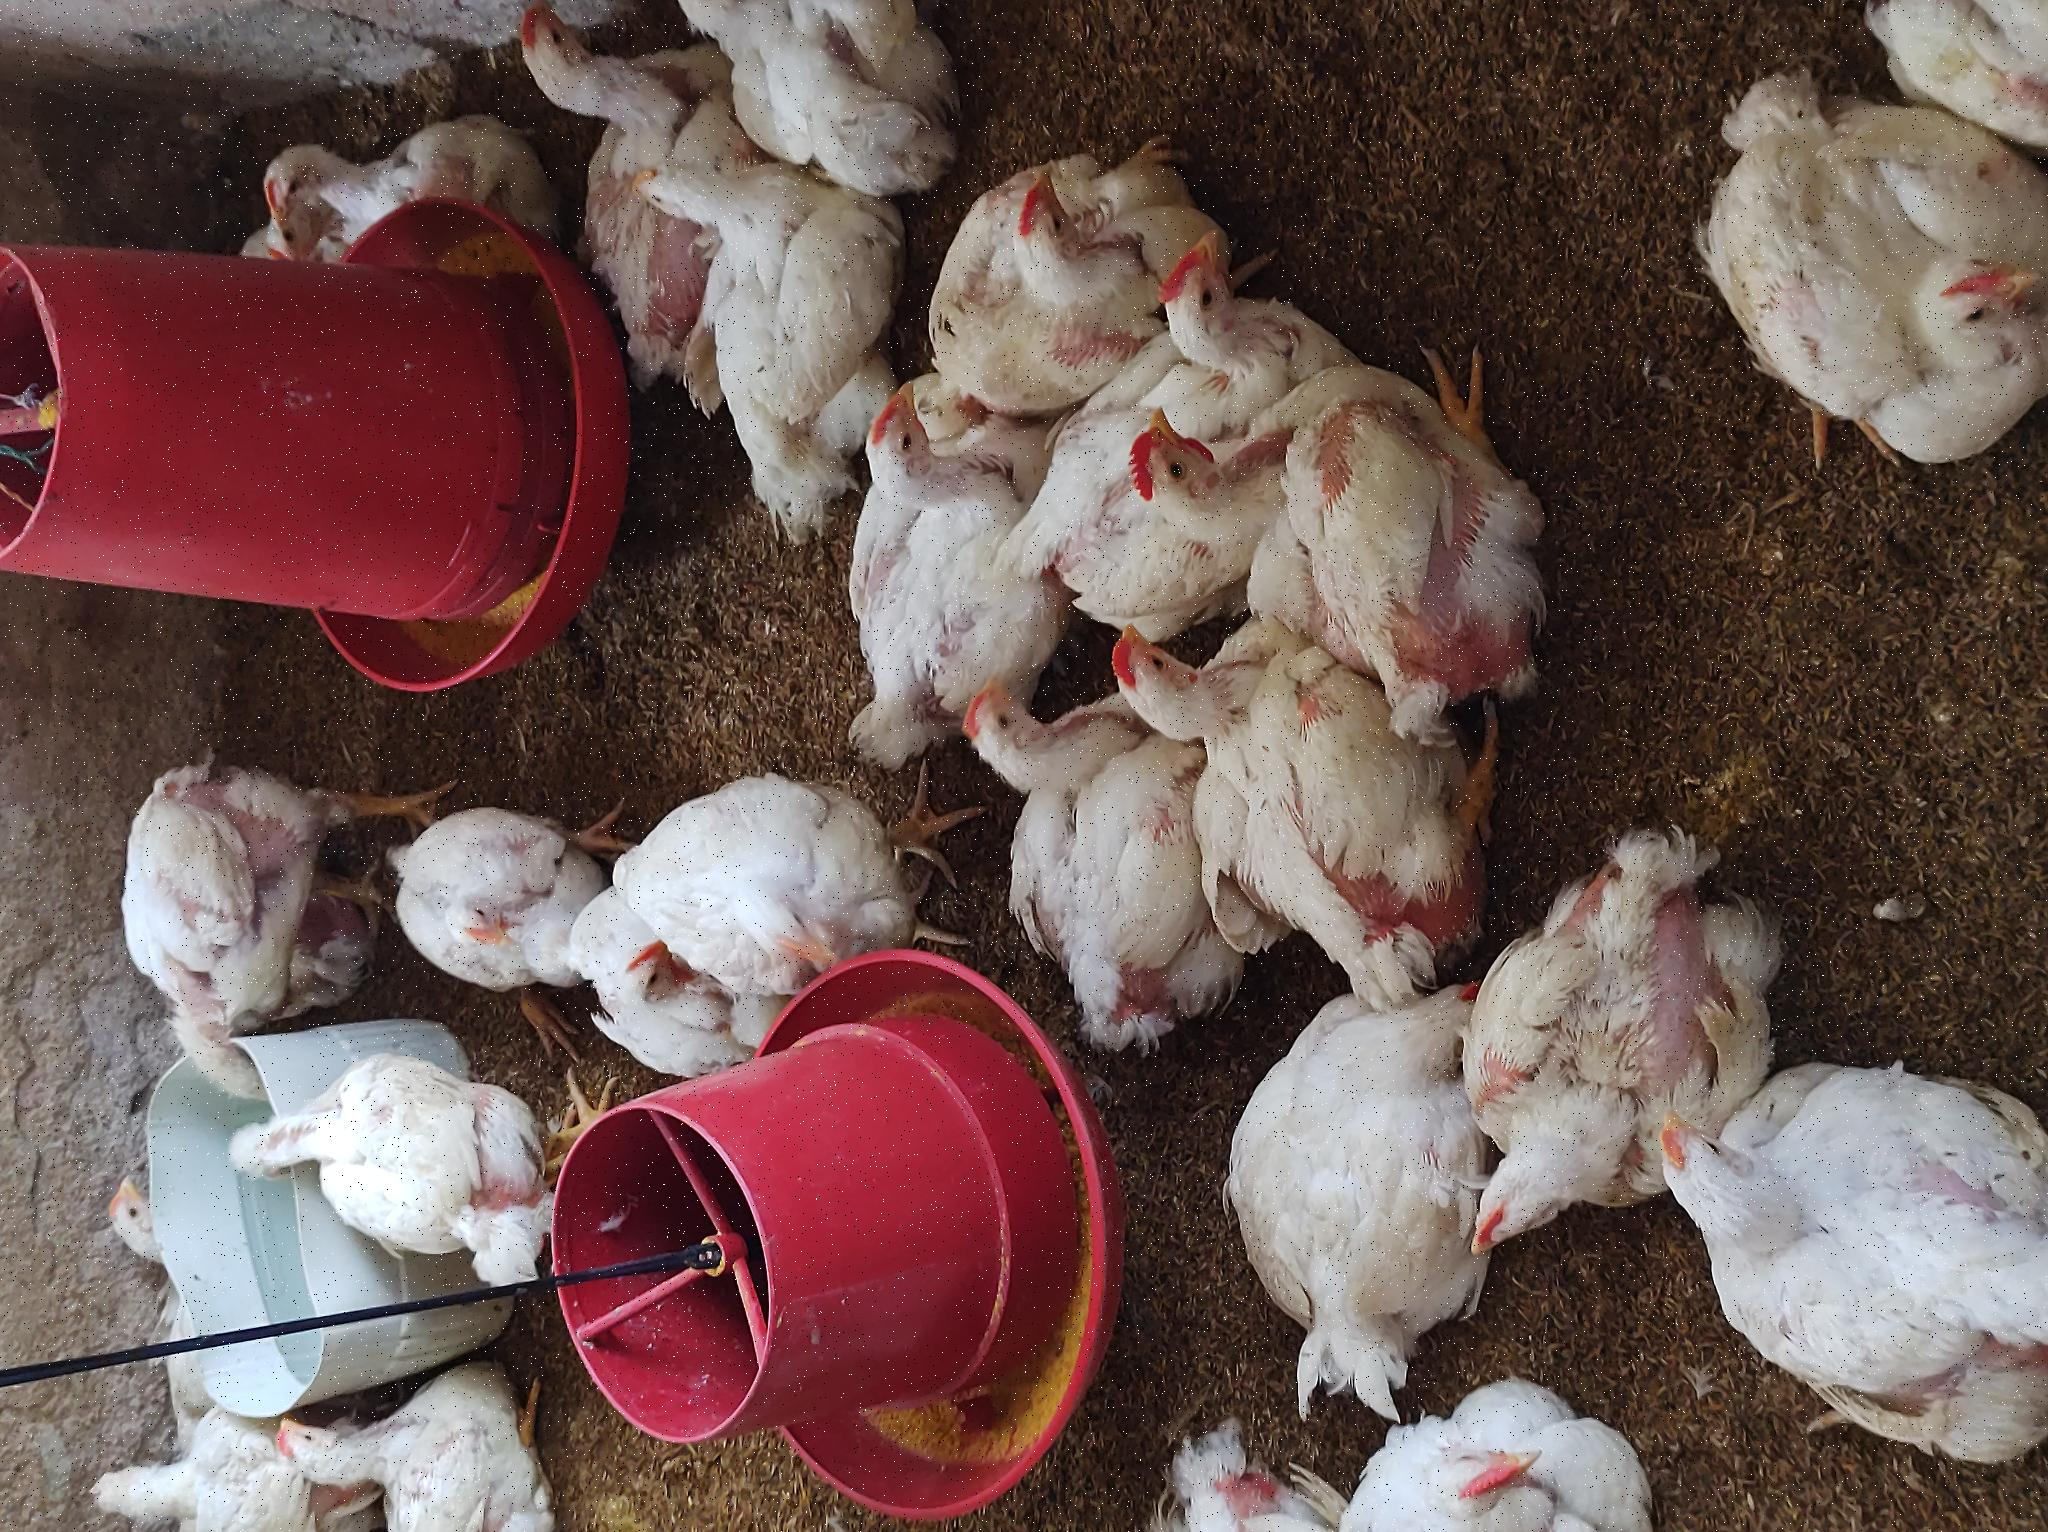Pollos: (105, 1210, 552, 1481), (560, 1110, 927, 1395), (430, 114, 796, 369), (240, 224, 470, 568), (1009, 639, 1379, 851), (769, 855, 1149, 1030), (560, 629, 771, 925), (1342, 658, 1530, 974), (1137, 929, 1388, 1160), (494, 401, 779, 587), (492, 969, 854, 1115), (2, 274, 195, 547), (938, 1130, 1147, 1381), (264, 1442, 685, 1532), (2, 1349, 164, 1532), (3, 74, 154, 270), (2, 1138, 129, 1371), (1141, 1163, 1335, 1294), (232, 60, 393, 191), (436, 586, 618, 687), (1366, 521, 1533, 631), (1306, 248, 1409, 372), (1250, 235, 1329, 330)
